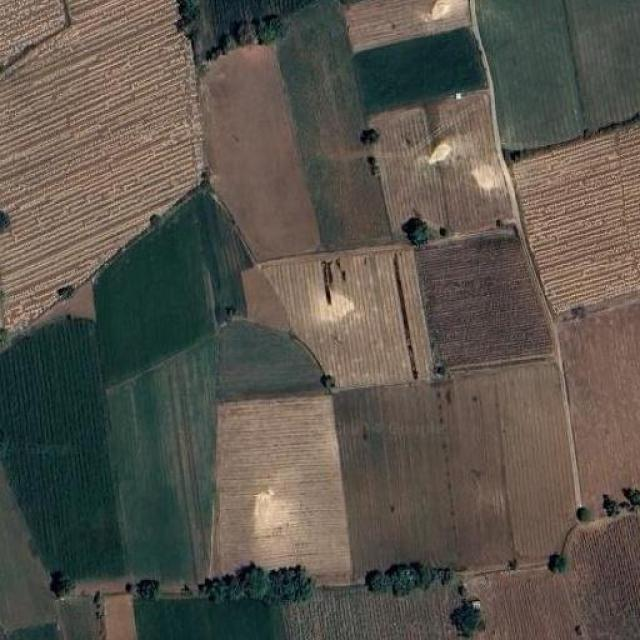land-Sx1C: (0, 0, 202, 330), (335, 360, 575, 578), (0, 318, 125, 580), (278, 0, 390, 249), (105, 338, 216, 581), (211, 394, 352, 584), (201, 45, 320, 261), (511, 121, 640, 314), (261, 245, 430, 388), (465, 512, 640, 640), (95, 204, 212, 383), (370, 90, 511, 236), (415, 231, 551, 367), (559, 300, 640, 512), (477, 0, 584, 149), (354, 29, 484, 113), (284, 585, 468, 640), (565, 0, 640, 129), (285, 586, 461, 640), (0, 464, 56, 631), (178, 0, 312, 67), (218, 320, 325, 401), (196, 188, 251, 321), (344, 0, 469, 52), (134, 598, 286, 640), (0, 0, 70, 71), (241, 266, 289, 331), (104, 592, 138, 639), (59, 599, 95, 639)
